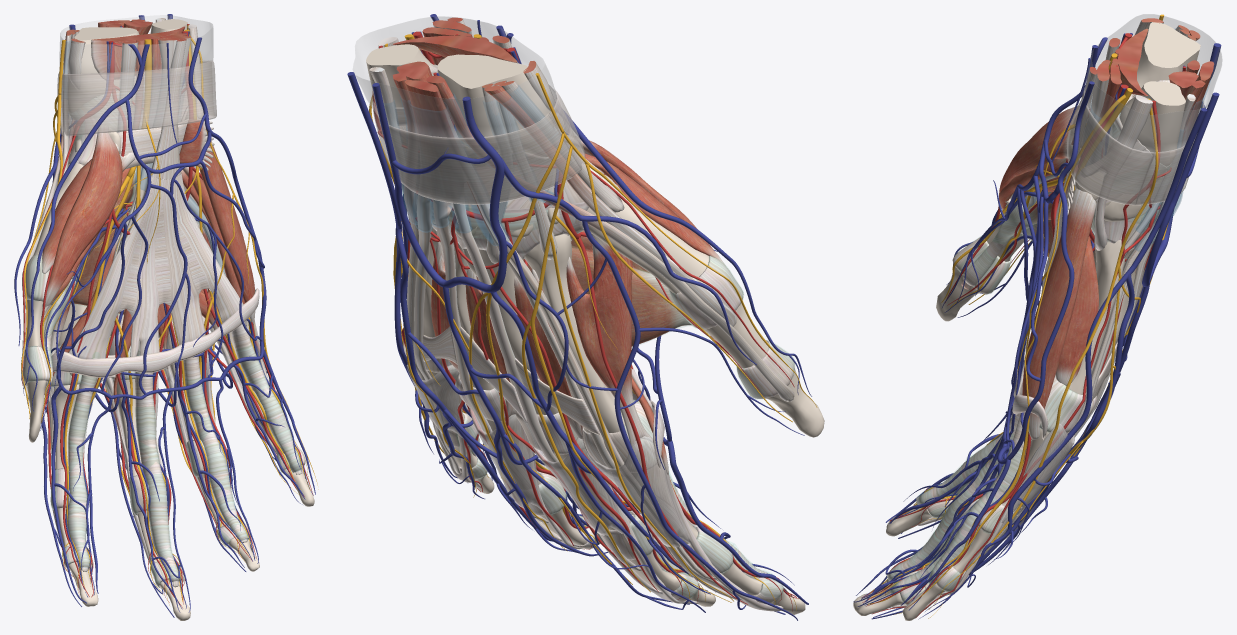
The model's file is hand_left.glb.
3 views of the same model, side by side, from view 1: azimuth 30°, elevation 25°; view 2: azimuth 150°, elevation 25°; view 3: azimuth 270°, elevation 25° (orthographic). The views are drawn at different scales.
Parts seen in each view (by area): view 1: Aponeurosis palmaris, Fibrous sheath of digits of hand, Palmar venous network of hand, Flexor retinaculum of wrist, Palmal digital veins, Abductor pollicis brevis, Antebrachial fascia, Palmar metacarpal veins, Superficial transverse metacarpal ligament, Proper palmar digital arteries, Abductor digiti minimi, Dorsal digital veins (+49 smaller); view 2: Extensor digitorum, Extensor retinaculum of wrist, Antebrachial fascia, Dorsal digital veins, Dorsal metatarsal veins, Radial nerve Dorsal digital nn, 1st dorsal interosseus of hand, Dorsal venous network of hand, Articular capsules of metacarpophalangeal joints, Articular capsule of radiocarpal joint, Radius, Extensor pollicis longus (+43 smaller); view 3: Palmar venous network of hand, Abductor digiti minimi, Antebrachial fascia, Flexor retinaculum of wrist, Fibrous sheath of digits of hand, Palmal digital veins, Dorsal digital veins, Opponens digiti minimi muscle of hand, Articular capsule of radiocarpal joint, Ulna, Common tendon of flexor carpi ulnaris, Radius (+36 smaller).
Part boxes in pixels (box(x1,y1,x2,y2)): Aponeurosis palmaris: box(68, 174, 243, 358); Fibrous sheath of digits of hand: box(67, 322, 301, 582); Palmar venous network of hand: box(36, 43, 266, 399); Flexor retinaculum of wrist: box(60, 60, 216, 136); Palmal digital veins: box(23, 268, 315, 612); Abductor pollicis brevis: box(42, 123, 122, 307); Antebrachial fascia: box(59, 15, 213, 73); Palmar metacarpal veins: box(40, 218, 313, 609); Superficial transverse metacarpal ligament: box(51, 288, 259, 377); Proper palmar digital arteries: box(64, 304, 313, 607); Abductor digiti minimi: box(199, 130, 255, 325); Dorsal digital veins: box(14, 273, 309, 617); Extensor digitorum: box(404, 80, 716, 580); Extensor retinaculum of wrist: box(373, 101, 581, 204); Antebrachial fascia: box(352, 16, 556, 137); Dorsal digital veins: box(399, 298, 804, 620); Dorsal metatarsal veins: box(394, 215, 720, 449); Radial nerve Dorsal digital nn: box(469, 132, 817, 602); 1st dorsal interosseus of hand: box(566, 233, 652, 447); Dorsal venous network of hand: box(365, 116, 580, 292); Articular capsules of metacarpophalangeal joints: box(416, 256, 743, 472); Articular capsule of radiocarpal joint: box(398, 65, 603, 259); Radius: box(437, 54, 553, 156); Extensor pollicis longus: box(426, 75, 794, 401); Palmar venous network of hand: box(997, 58, 1090, 464); Abductor digiti minimi: box(1022, 188, 1096, 439); Antebrachial fascia: box(1084, 14, 1222, 152); Flexor retinaculum of wrist: box(1066, 87, 1155, 205); Fibrous sheath of digits of hand: box(887, 412, 1031, 595); Palmal digital veins: box(853, 180, 1010, 606); Dorsal digital veins: box(871, 241, 1103, 619); Opponens digiti minimi muscle of hand: box(1055, 236, 1098, 385); Articular capsule of radiocarpal joint: box(1091, 79, 1169, 251); Ulna: box(1119, 81, 1185, 165); Common tendon of flexor carpi ulnaris: box(1080, 95, 1152, 250); Radius: box(1132, 22, 1200, 95).
Bounding box in the file's own units: 0.1097 × 0.1855 × 0.1032.
45 materials, 7 textured.
